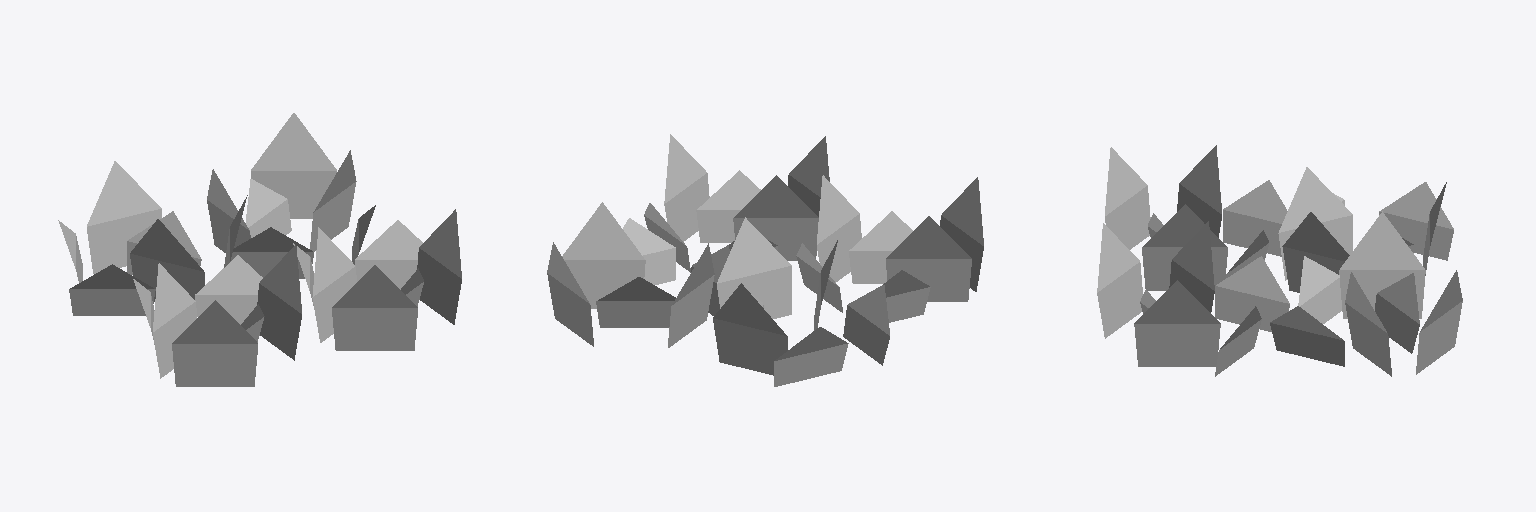
File: grassLarge.obj
The picture shows the model from 3 angles: view 1: azimuth 30°, elevation 25°; view 2: azimuth 150°, elevation 25°; view 3: azimuth 270°, elevation 25°; orthographic projection.
Visible parts, largest first — view 1: grassLarge; view 2: grassLarge; view 3: grassLarge.
Part boxes in pixels (bbox=[...]): grassLarge: bbox=[58, 113, 461, 386]; grassLarge: bbox=[547, 134, 983, 386]; grassLarge: bbox=[1097, 145, 1462, 376].
Bounding box in the file's own units: 0.4759 × 0.1425 × 0.4873.